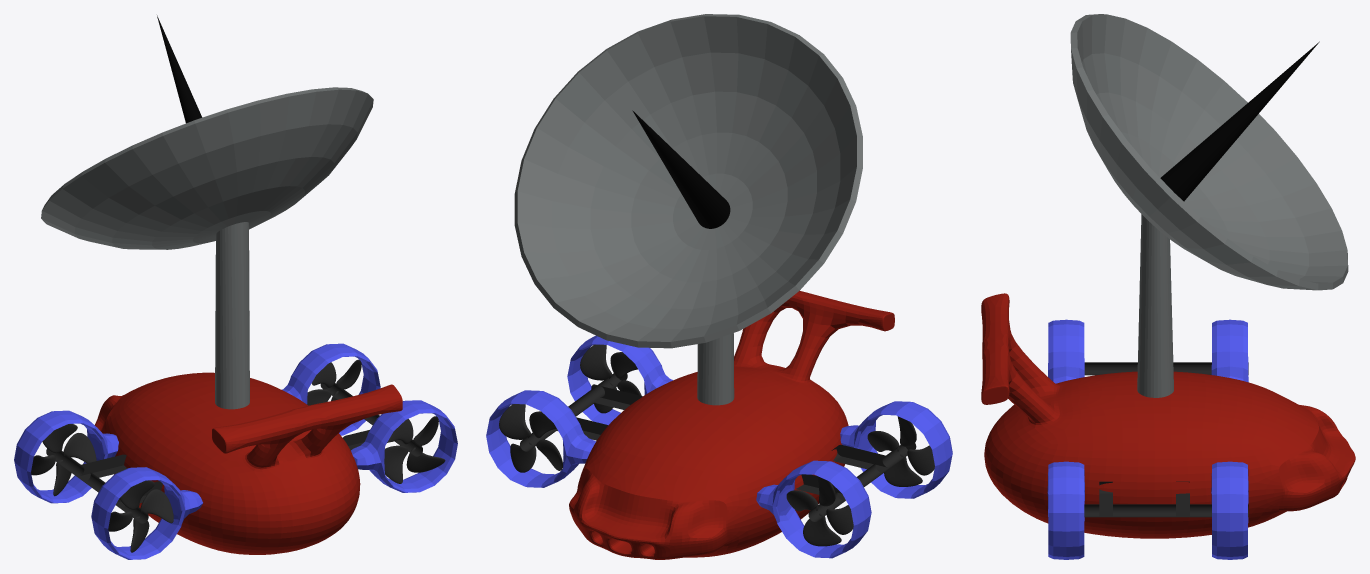
Rendered from scout.glb.
3 renders of one model, left to right at view 1: azimuth 30°, elevation 25°; view 2: azimuth 150°, elevation 25°; view 3: azimuth 270°, elevation 25°, orthographic. The views are drawn at different scales.
Parts seen in each view (by area): view 1: Sphere, Cube, Circle.001, Plane.005, Plane.003, wing_r.002, Sphere.001; view 2: Sphere, Cube, Circle.001, Plane.005, wing_r.002, Plane.003, Sphere.001; view 3: Sphere, Cube, Circle.001, Sphere.001, wing_r.002.
Part boxes in pixels (x1,y1,x2,y2): Sphere: (41, 87, 373, 409); Cube: (95, 372, 402, 554); Circle.001: (14, 343, 457, 559); Plane.005: (31, 424, 173, 552); Plane.003: (307, 359, 445, 483); wing_r.002: (46, 383, 422, 523); Sphere.001: (157, 15, 202, 123); Sphere: (514, 14, 862, 405); Cube: (569, 291, 894, 559); Circle.001: (486, 335, 952, 558); Plane.005: (786, 416, 934, 546); wing_r.002: (520, 373, 916, 521); Plane.003: (499, 344, 641, 472); Sphere.001: (632, 110, 730, 228); Sphere: (1070, 14, 1348, 397); Cube: (981, 293, 1355, 538); Circle.001: (1047, 319, 1248, 559); Sphere.001: (1160, 41, 1319, 201); wing_r.002: (1084, 362, 1248, 517).
Size of the model in its own units: 9.4 by 11.51 by 8.11.
4 materials, 4 textured.
